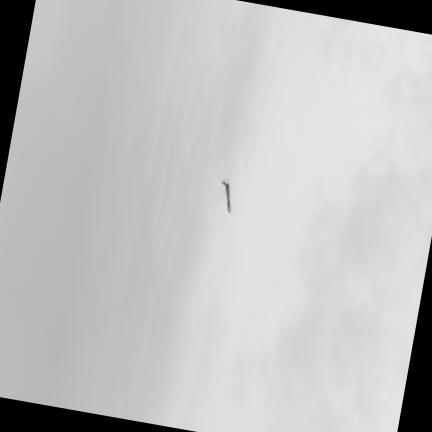Shahed: (220, 177, 231, 214)
